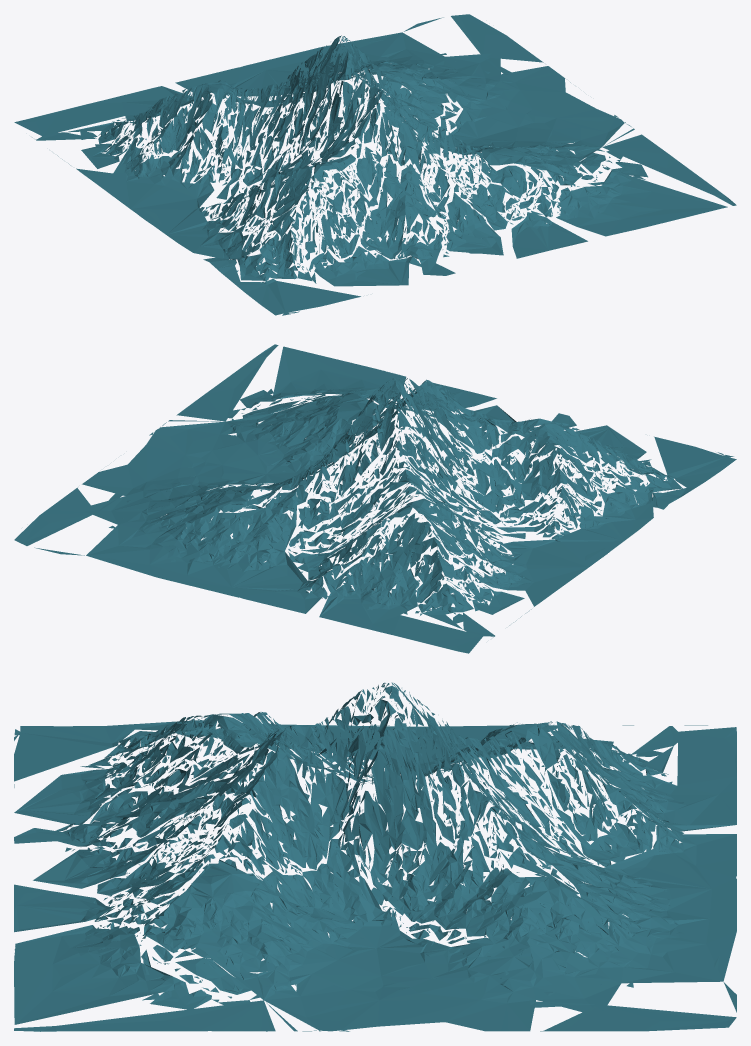
File: scene-mobile-v1.1.163.gltf
3 views of the same model, one above another, from view 1: azimuth 30°, elevation 25°; view 2: azimuth 150°, elevation 25°; view 3: azimuth 270°, elevation 25° (orthographic). The views are drawn at different scales.
Parts seen in each view (by area): view 1: world; view 2: world; view 3: world.
Part boxes in pixels (<box>): world: <box>14,14,736,315</box>; world: <box>14,344,736,653</box>; world: <box>14,682,736,1031</box>.
Size of the model in its own units: 221 by 60.26 by 221.
